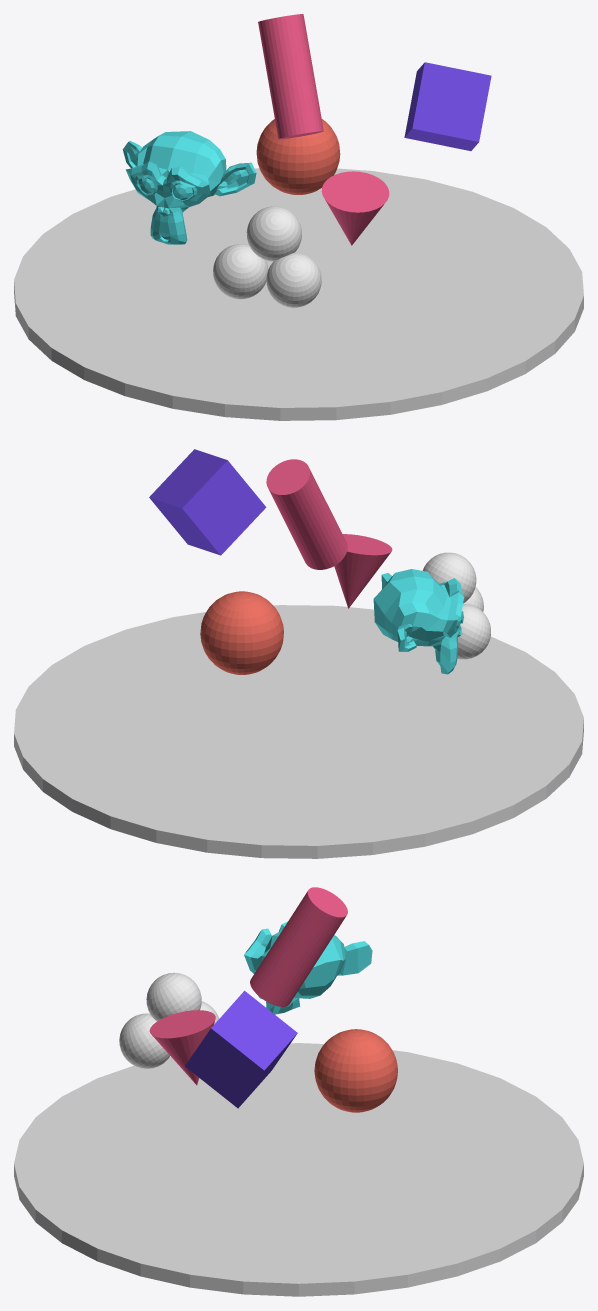
File: TestScene.gltf
3 renders of one model, top to bottom at view 1: azimuth 30°, elevation 25°; view 2: azimuth 150°, elevation 25°; view 3: azimuth 270°, elevation 25°, orthographic.
Visible parts, largest first — view 1: Cylinder, Suzanne, Cube, Cylinder.001, Sphere, Cone, Sphere.002, Sphere.001, Sphere.003; view 2: Cylinder, Cube, Suzanne, Sphere, Cylinder.001, Cone, Sphere.001, Sphere.003; view 3: Cylinder, Cube, Cylinder.001, Sphere, Suzanne, Cone, Sphere.001, Sphere.002.
Part boxes in pixels (left/top/right/bottom): Cylinder: left=14, top=168, right=583, bottom=420; Suzanne: left=122, top=131, right=256, bottom=244; Cube: left=404, top=62, right=491, bottom=150; Cylinder.001: left=258, top=14, right=323, bottom=139; Sphere: left=256, top=119, right=340, bottom=194; Cone: left=321, top=171, right=389, bottom=245; Sphere.002: left=266, top=252, right=321, bottom=307; Sphere.001: left=246, top=206, right=301, bottom=261; Sphere.003: left=213, top=244, right=268, bottom=299; Cylinder: left=14, top=605, right=583, bottom=858; Cube: left=149, top=449, right=266, bottom=555; Suzanne: left=373, top=569, right=464, bottom=674; Sphere: left=200, top=591, right=283, bottom=674; Cylinder.001: left=266, top=459, right=347, bottom=569; Cone: left=334, top=534, right=392, bottom=608; Sphere.001: left=422, top=552, right=476, bottom=603; Sphere.003: left=457, top=604, right=490, bottom=659; Cylinder: left=14, top=1043, right=583, bottom=1296; Cube: left=185, top=990, right=297, bottom=1108; Cylinder.001: left=250, top=887, right=347, bottom=1006; Sphere: left=314, top=1029, right=397, bottom=1112; Suzanne: left=244, top=921, right=372, bottom=1014; Cone: left=149, top=1010, right=215, bottom=1085; Sphere.001: left=146, top=972, right=201, bottom=1021; Sphere.002: left=119, top=1013, right=169, bottom=1068.
Bounding box in the file's own units: 8 × 4.37 × 8.
